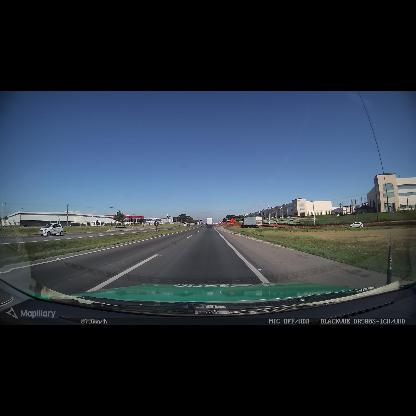A-24: (230, 218, 235, 224)
